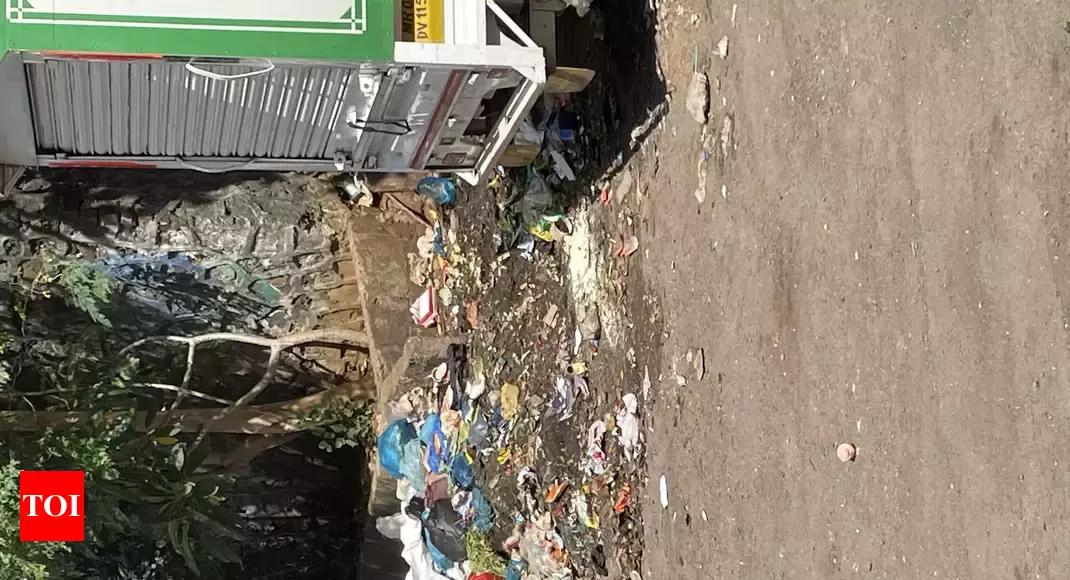garbage: (365, 207, 670, 580)
